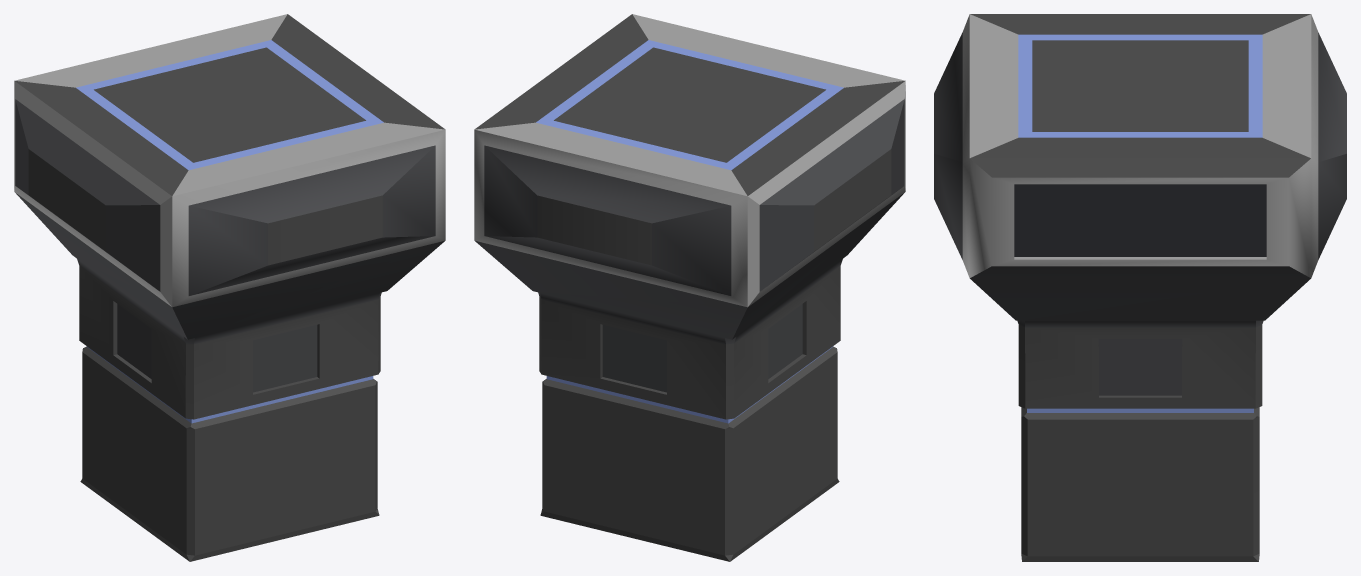
File: Platform Ground.fbx
The picture shows the model from 3 angles, left to right: view 1: azimuth 30°, elevation 25°; view 2: azimuth 150°, elevation 25°; view 3: azimuth 270°, elevation 25°; orthographic projection. The views are drawn at different scales.
Parts seen in each view (by area): view 1: Platform_asset1; view 2: Platform_asset1; view 3: Platform_asset1.
Part boxes in pixels (x1,y1,x2,y2): Platform_asset1: [14, 14, 445, 561]; Platform_asset1: [474, 14, 905, 561]; Platform_asset1: [934, 14, 1346, 561].
Size of the model in its own units: 299 by 365 by 321.
